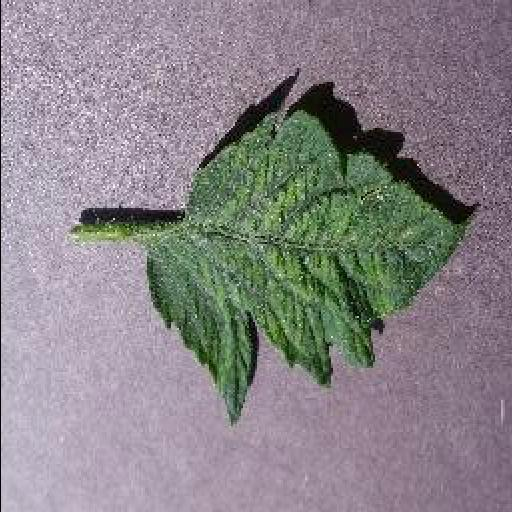Mosaic Virus: (144, 108, 464, 424)
